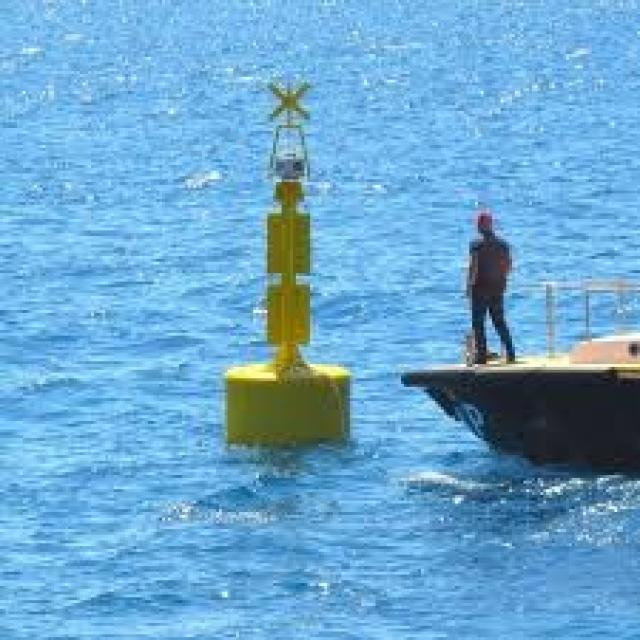buoy: (215, 65, 359, 458)
